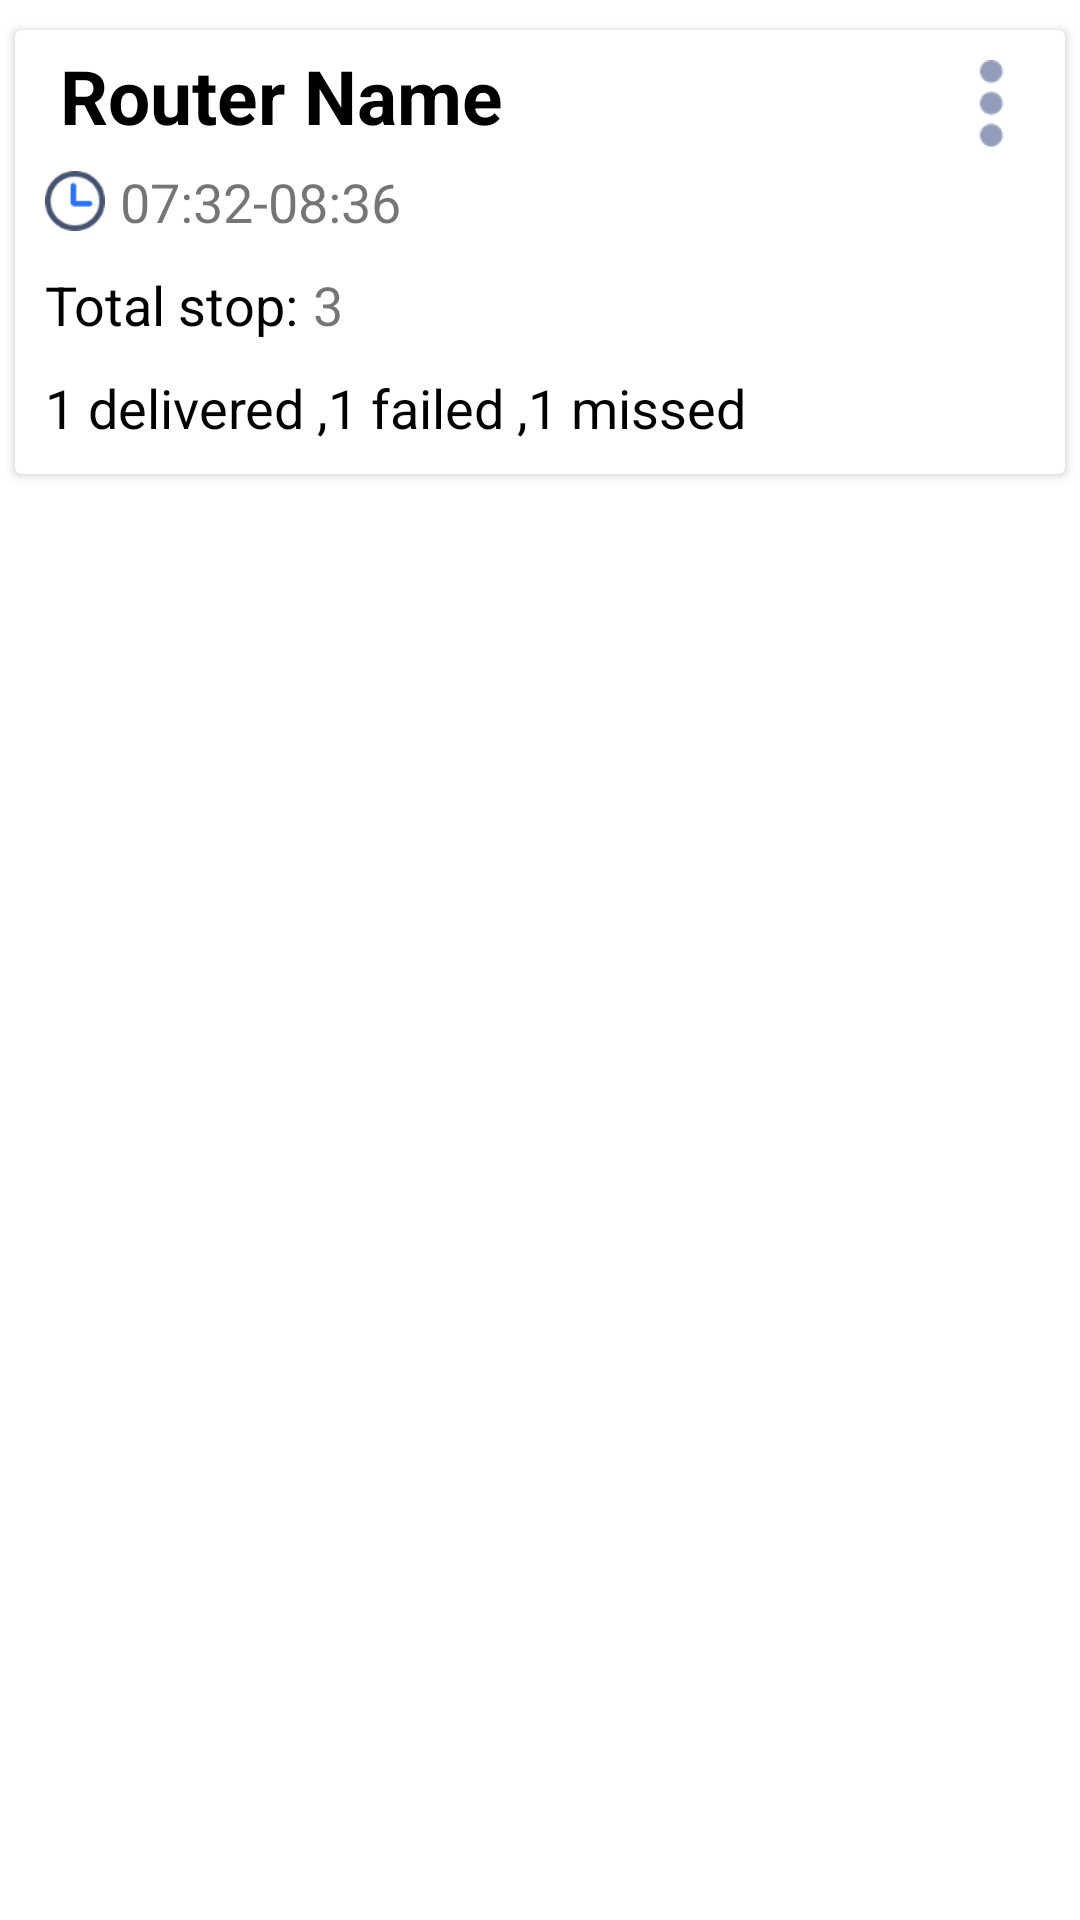

Named icons in this screenshot (1080w x 1920h) and their bounding boxes, (x1, y1, x2, y2):
arrival time: (45, 171, 105, 231)
more list: (980, 60, 1003, 147)
